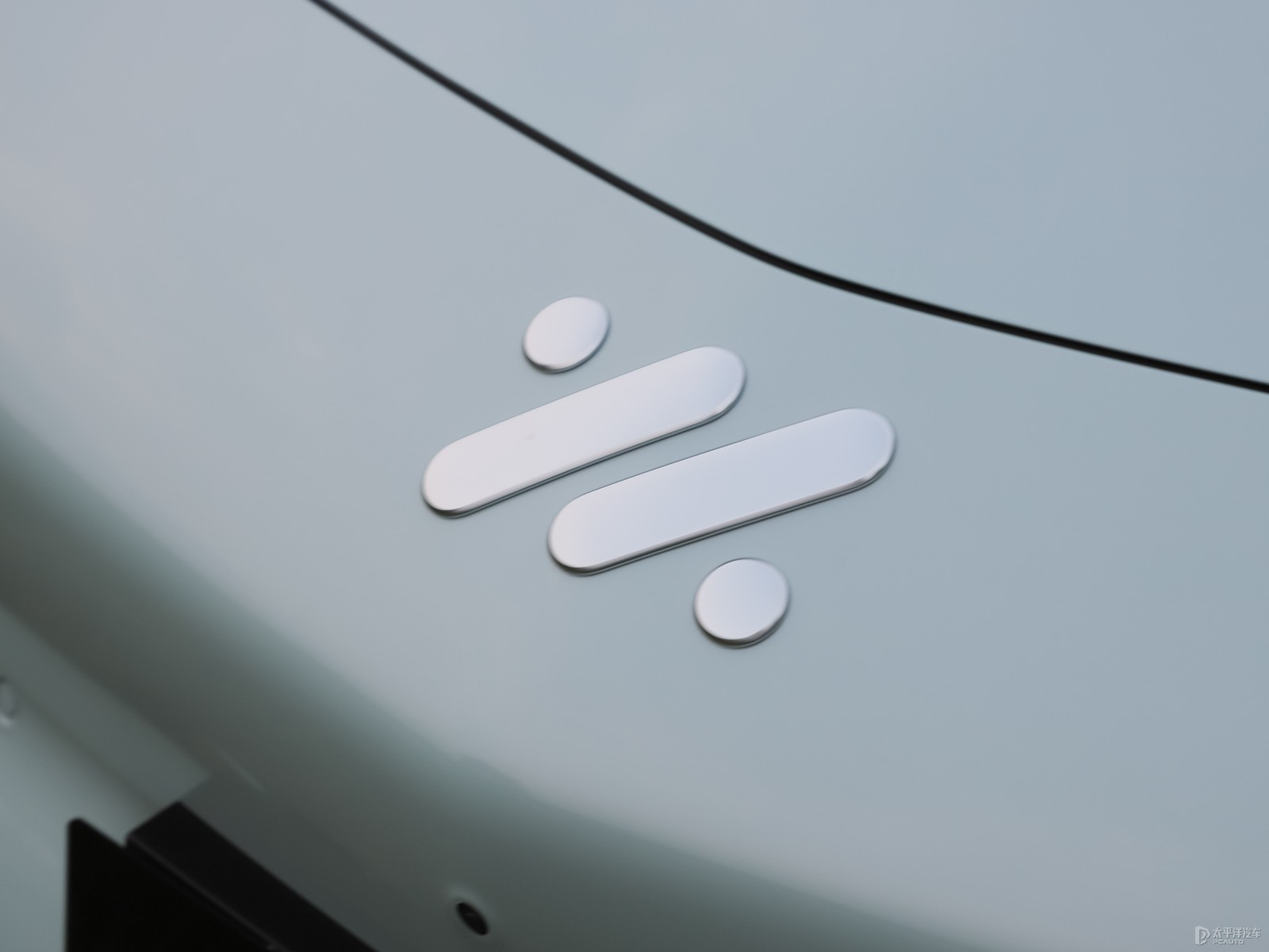IM: (423, 298, 894, 639)
